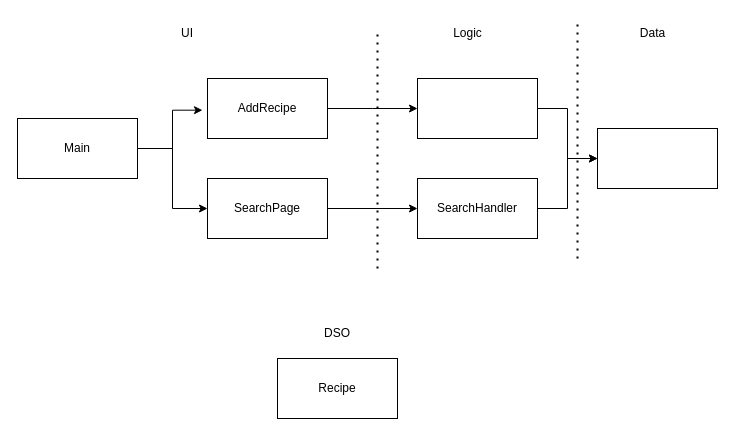
The diagram is 735 pixels wide and 436 high, and some of its shapes have lost their labels. The box of each missing label's shape, as (x1, y1, x2, y2) in pixels:
RecipeCreator: (416, 78, 538, 138)
RecipeDB: (596, 128, 718, 188)
